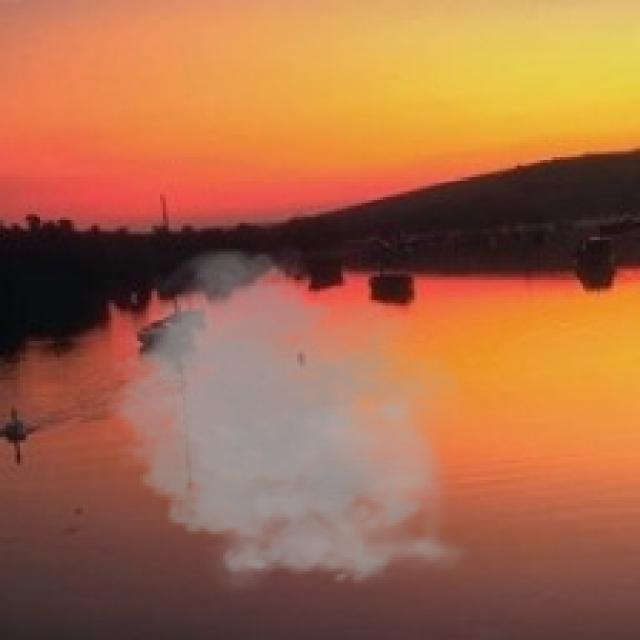smoke: (94, 237, 480, 600)
